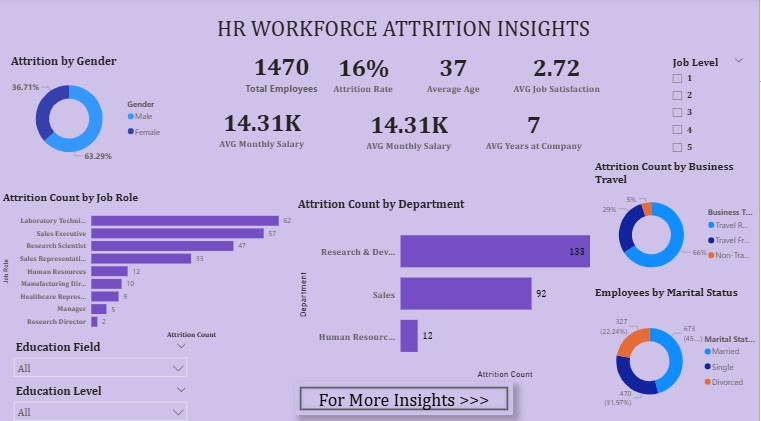

This screenshot's page, from the dashboard's own definition file:
{"tool":"powerbi","page":{"name":"Page 1","canvas":[1280,720],"ordinal":0},"visuals":[{"type":"textbox","box":[361.2,23.5,712.2,70.6],"z":0},{"type":"donutChart","title":"Attrition by Gender","fields":{"Y":["HR ATTRITION JAY CSV.Attrition Count"],"Category":["HR ATTRITION JAY CSV.Gender"]},"box":[13.4,94.1,272.1,194.9],"z":1000},{"type":"clusteredBarChart","fields":{"Y":["HR ATTRITION JAY CSV.Attrition Count"],"Category":["HR ATTRITION JAY CSV.Department"]},"box":[497.2,336,535.9,310.8],"z":2000},{"type":"clusteredBarChart","fields":{"Category":["HR ATTRITION JAY CSV.Job Role"],"Y":["HR ATTRITION JAY CSV.Attrition Count"]},"box":[0,324.2,497.2,255.3],"z":3000},{"type":"card","fields":{"Values":["HR ATTRITION JAY CSV.Total Employees"]},"box":[394.8,72.2,159.6,102.5],"z":4000},{"type":"card","fields":{"Values":["HR ATTRITION JAY CSV.Attrition Rate"]},"box":[535.9,72.2,152.9,104.1],"z":5000},{"type":"card","fields":{"Values":["HR ATTRITION JAY CSV.Average Age"]},"box":[688.7,72.2,152.9,104.1],"z":6000},{"type":"card","fields":{"Values":["HR ATTRITION JAY CSV.AVG Monthly Salary"]},"box":[603,168,171.3,104.1],"z":7000},{"type":"card","fields":{"Values":["HR ATTRITION JAY CSV.AVG Job Satisfaction"]},"box":[844.9,72.2,188.1,104.1],"z":8000},{"type":"card","fields":{"Values":["HR ATTRITION JAY CSV.AVG Years at Company"]},"box":[802.9,168,194.9,104.1],"z":9000},{"type":"slicer","fields":{"Values":["HR ATTRITION JAY CSV.Job Level"]},"box":[1122.1,90.7,144.5,181.4],"z":10000},{"type":"donutChart","title":"Employees by Marital Status","fields":{"Category":["HR ATTRITION JAY CSV.Marital Status"],"Y":["HR ATTRITION JAY CSV.Total Employees"]},"box":[997.8,483.8,282.2,235.2],"z":11000},{"type":"slicer","fields":{"Values":["HR ATTRITION JAY CSV.Education Field"]},"box":[13.4,571.1,312.4,75.6],"z":12000},{"type":"card","fields":{"Values":["HR ATTRITION JAY CSV.AVG Monthly Salary"]},"box":[356.1,164.6,171.3,104.1],"z":13000},{"type":"slicer","fields":{"Values":["HR ATTRITION JAY CSV.Education"]},"box":[13.4,646.7,312.4,72.2],"z":14000},{"type":"donutChart","fields":{"Category":["HR ATTRITION JAY CSV.Business Travel"],"Y":["HR ATTRITION JAY CSV.Attrition Count"]},"box":[997.8,272.1,282.2,211.7],"z":15000},{"type":"actionButton","box":[497.5,647.6,367.6,55.7],"z":15001}]}

Visuals, with their boxes in screenshot pixels (x1, y1, x2, y2), scaled from the page's 1280x720 canvas onto the 761x421 screenshot:
textbox: <region>215, 14, 638, 55</region>
"Attrition by Gender" donutChart: <region>8, 55, 170, 169</region>
clusteredBarChart - HR ATTRITION JAY CSV.Attrition Count x HR ATTRITION JAY CSV.Department: <region>296, 196, 614, 378</region>
clusteredBarChart - HR ATTRITION JAY CSV.Job Role x HR ATTRITION JAY CSV.Attrition Count: <region>0, 190, 296, 339</region>
card - HR ATTRITION JAY CSV.Total Employees: <region>235, 42, 330, 102</region>
card - HR ATTRITION JAY CSV.Attrition Rate: <region>319, 42, 410, 103</region>
card - HR ATTRITION JAY CSV.Average Age: <region>409, 42, 500, 103</region>
card - HR ATTRITION JAY CSV.AVG Monthly Salary: <region>359, 98, 460, 159</region>
card - HR ATTRITION JAY CSV.AVG Job Satisfaction: <region>502, 42, 614, 103</region>
card - HR ATTRITION JAY CSV.AVG Years at Company: <region>477, 98, 593, 159</region>
slicer - HR ATTRITION JAY CSV.Job Level: <region>667, 53, 753, 159</region>
"Employees by Marital Status" donutChart: <region>593, 283, 760, 420</region>
slicer - HR ATTRITION JAY CSV.Education Field: <region>8, 334, 194, 378</region>
card - HR ATTRITION JAY CSV.AVG Monthly Salary: <region>212, 96, 314, 157</region>
slicer - HR ATTRITION JAY CSV.Education: <region>8, 378, 194, 420</region>
donutChart - HR ATTRITION JAY CSV.Business Travel x HR ATTRITION JAY CSV.Attrition Count: <region>593, 159, 760, 283</region>
actionButton: <region>296, 379, 514, 411</region>
